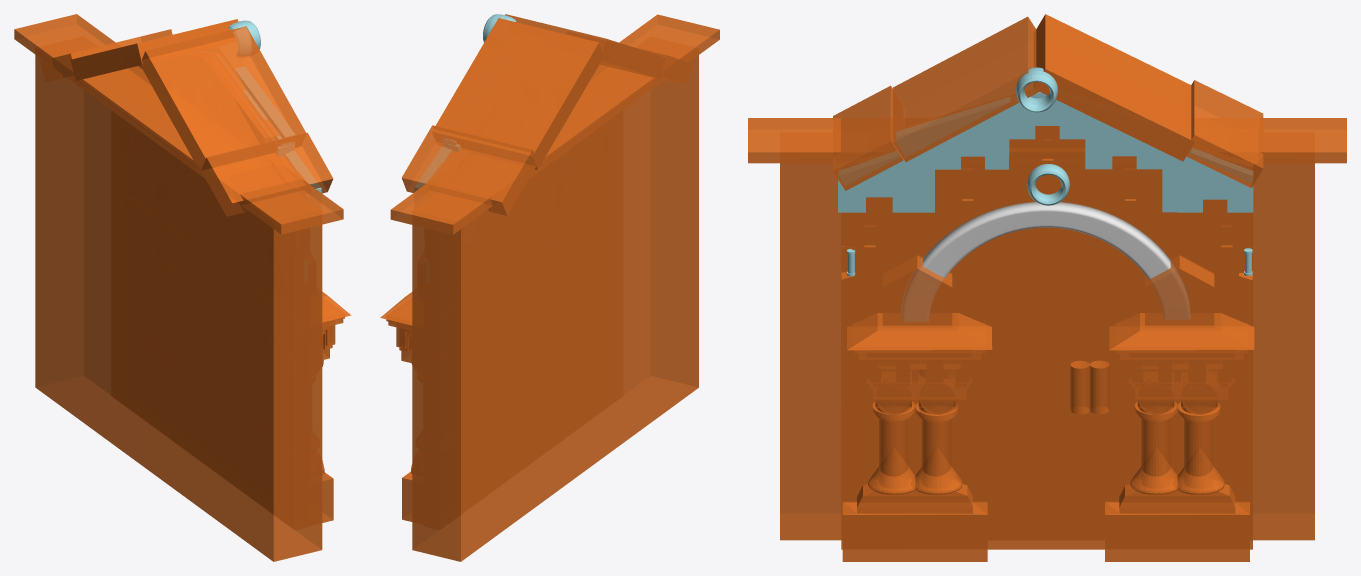
Rendered from ворота.glb.
The picture shows the model from 3 angles, left to right: view 1: azimuth 30°, elevation 25°; view 2: azimuth 150°, elevation 25°; view 3: azimuth 270°, elevation 25°; orthographic projection. The views are drawn at different scales.
Parts seen in each view (by area): view 1: Cube.001; view 2: Cube.001; view 3: Cube.001, NurbsPath, Cube.
Part boxes in pixels (x1,y1,x2,y2): Cube.001: (14, 14, 351, 561); Cube.001: (380, 14, 719, 561); Cube.001: (748, 14, 1346, 561); NurbsPath: (901, 201, 1190, 321); Cube: (919, 360, 1109, 414).
Size of the model in its own units: 9.72 by 32.19 by 35.65.
